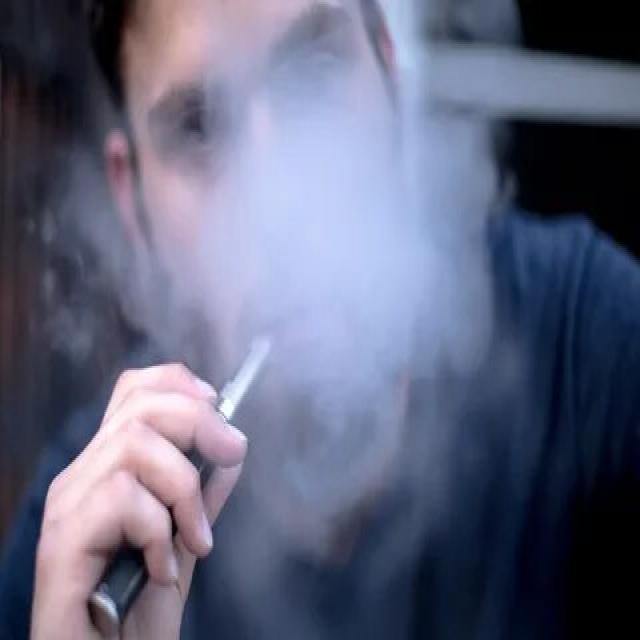smoke: (86, 324, 282, 640)
